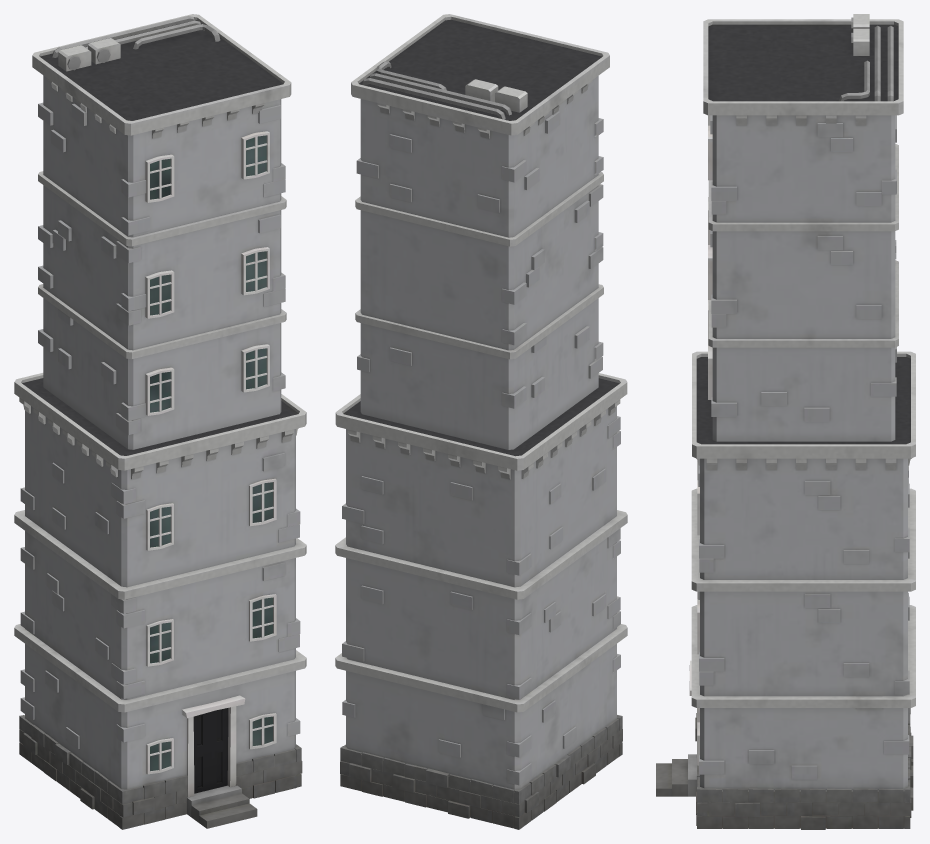
The model's file is 6Story_Stack.glb.
3 views of the same model, side by side, from view 1: azimuth 30°, elevation 25°; view 2: azimuth 150°, elevation 25°; view 3: azimuth 270°, elevation 25° (orthographic). The views are drawn at different scales.
Visible parts, largest first — view 1: 6Story_Stack_high; view 2: 6Story_Stack_high; view 3: 6Story_Stack_high.
Boxes of the visible parts, x1,y1,x2,y2 form: 6Story_Stack_high: [14, 14, 306, 829]; 6Story_Stack_high: [335, 14, 627, 829]; 6Story_Stack_high: [656, 14, 915, 829].
Size of the model in its own units: 2.16 by 7.8 by 2.5.
Materials: 2 (2 with a texture image).
